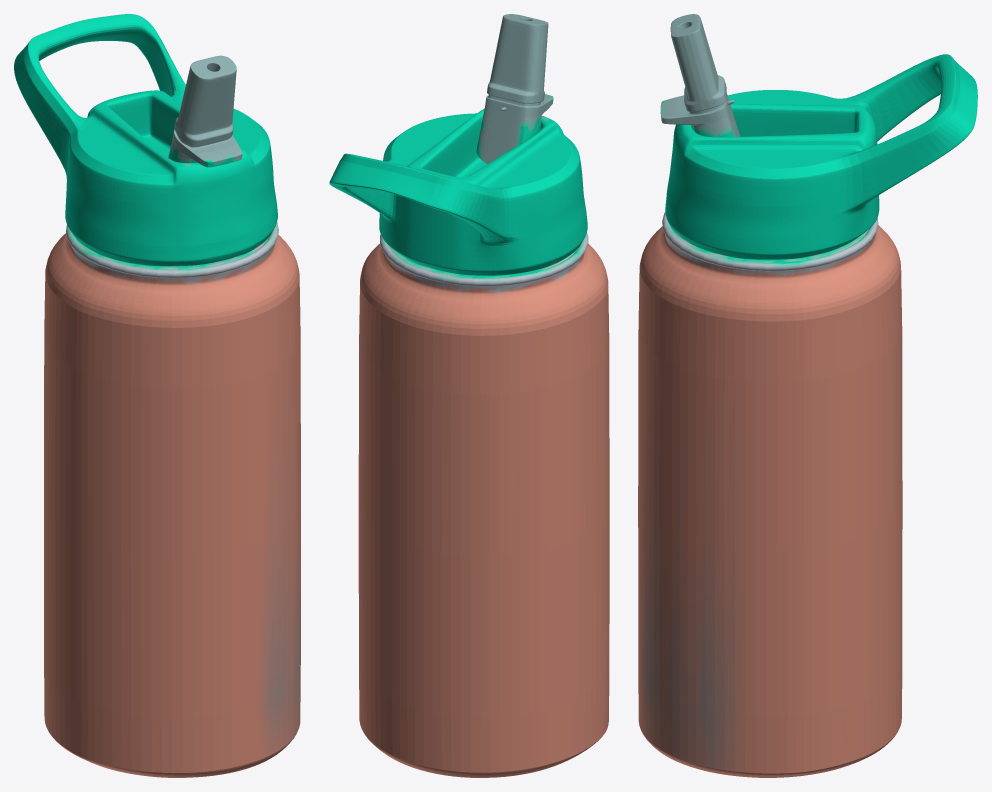
The picture shows the model from 3 angles, left to right: view 1: azimuth 30°, elevation 25°; view 2: azimuth 150°, elevation 25°; view 3: azimuth 270°, elevation 25°; orthographic projection. The views are drawn at different scales.
Visible parts, largest first — view 1: 8a5c0fd0d4bc45128f3ee5c65a32e54f.ply; view 2: 8a5c0fd0d4bc45128f3ee5c65a32e54f.ply; view 3: 8a5c0fd0d4bc45128f3ee5c65a32e54f.ply.
Part boxes in pixels (bbox=[...]): 8a5c0fd0d4bc45128f3ee5c65a32e54f.ply: bbox=[14, 14, 300, 777]; 8a5c0fd0d4bc45128f3ee5c65a32e54f.ply: bbox=[329, 14, 609, 777]; 8a5c0fd0d4bc45128f3ee5c65a32e54f.ply: bbox=[638, 14, 977, 777].
Size of the model in its own units: 0.3317 by 0.9959 by 0.4337.
